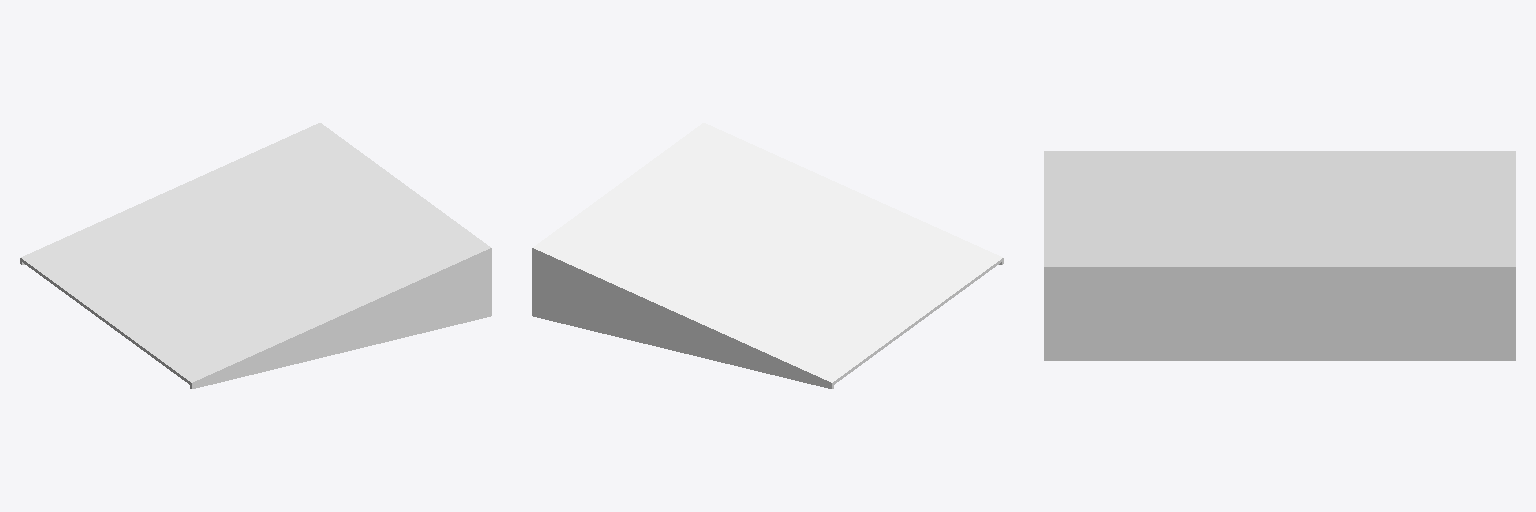
The robot description file, URDF, robot "Terrain_Test_Block.urdf":
<?xml version="1.0" ?>
<robot name="Terrain_Test_Block.urdf">
	<link name="base_link">
		<visual>
			<origin xyz="0 0 0" rpy="0 0 0" />
			<geometry>
				<mesh filename="Terrain_Test_Block_meters.stl" scale="1.0 1.0 1.0" />
			</geometry>
			<material name="texture">
				<color rgba="1.0 1.0 1.0 1.0" />
			</material>
		</visual>
		<collision>
			<geometry>
				<mesh filename="Terrain_Test_Block_meters.stl" scale="1.0 1.0 1.0" />
			</geometry>
		<origin xyz="0 0 0" rpy="0 0 0" /></collision>
		<inertial>
			<mass value="1000.0" />
			<inertia ixx="1.0" ixy="0.0" ixz="0.0" iyy="1.0" iyz="0.0" izz="1.0" />
		</inertial>
	</link>
</robot>

--- Render facts (derived) ---
3 views of the same robot in one strip: view 1: azimuth 30°, elevation 25°; view 2: azimuth 150°, elevation 25°; view 3: azimuth 270°, elevation 25° (orthographic).
Model Terrain_Test_Block.urdf with 1 links and 0 joints (none), rooted at base_link, posed all joints at 0.
Visible links, largest first — view 1: base_link; view 2: base_link; view 3: base_link.
Link boxes in pixels (x1,y1,x2,y2): base_link: (20, 123, 491, 388); base_link: (532, 123, 1003, 388); base_link: (1044, 151, 1515, 360).
Bounding box of the posed robot: 0.6159 × 0.6096 × 0.1347 m (x, y, z).
1 mesh visuals loaded from 1 distinct referenced files (1 binary STL).